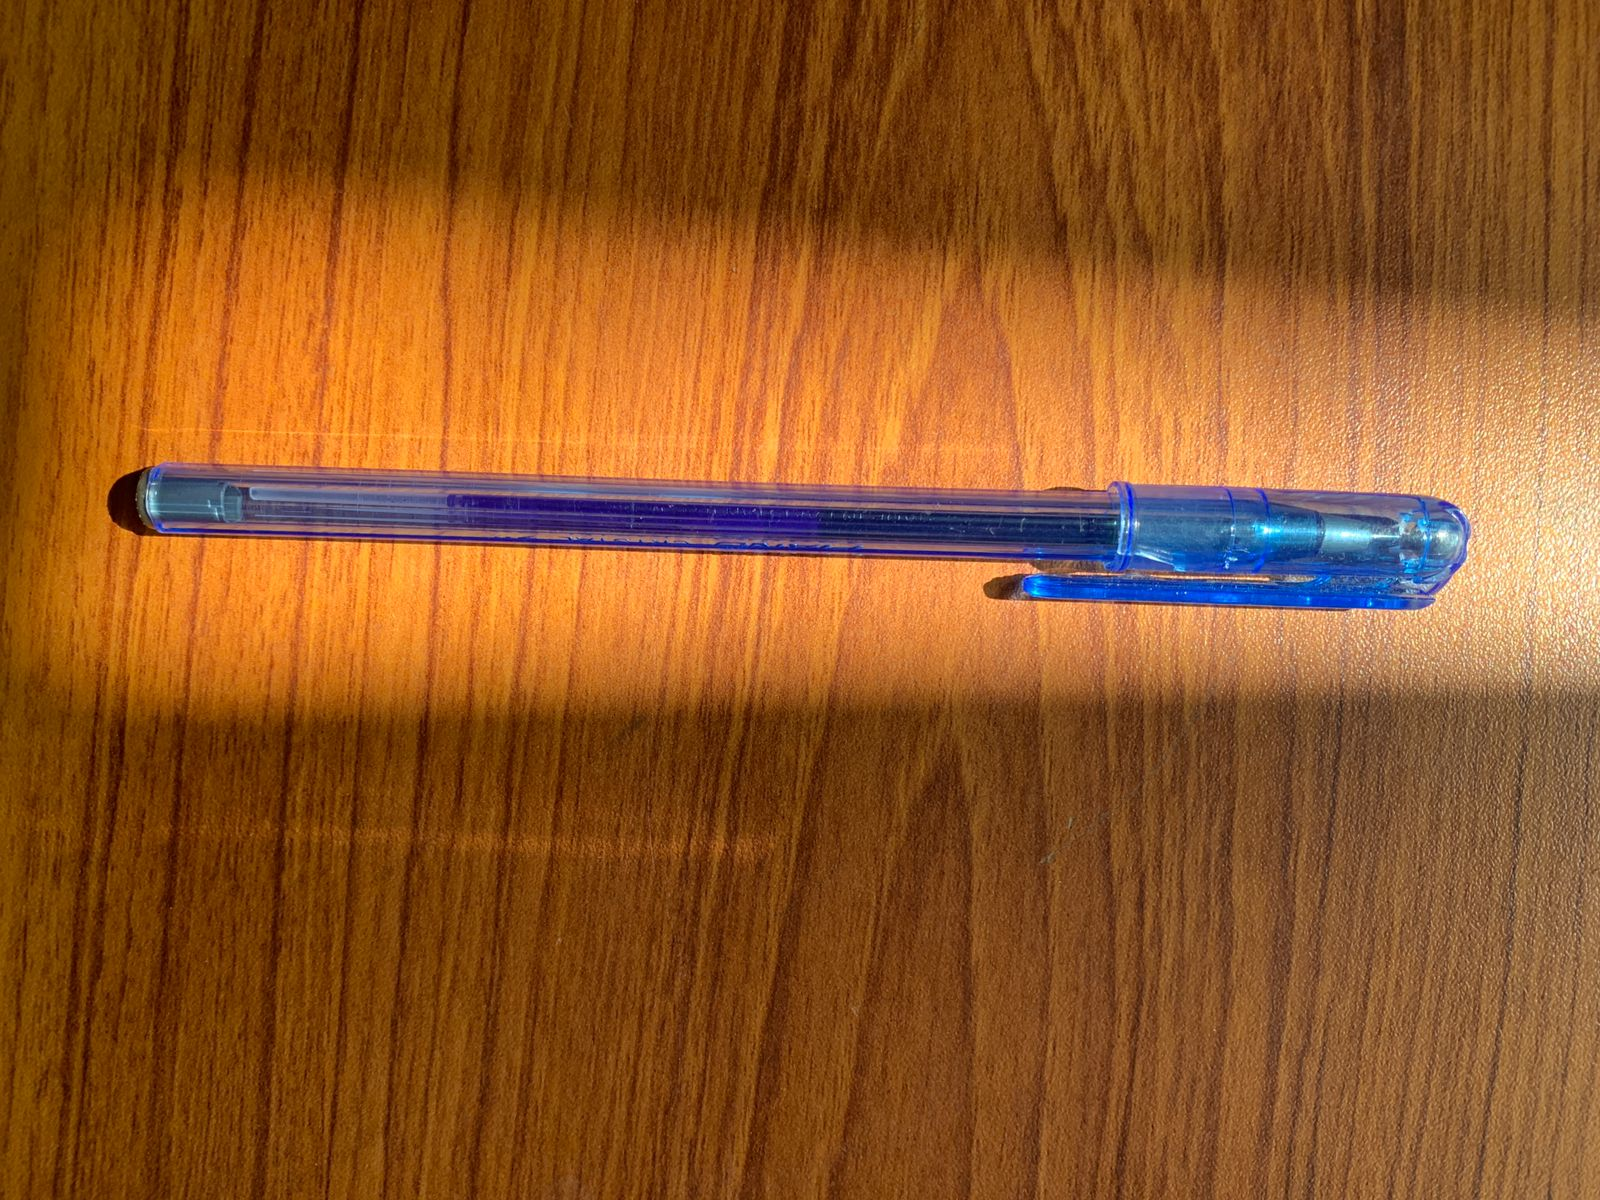pen: (49, 353, 1506, 768)
